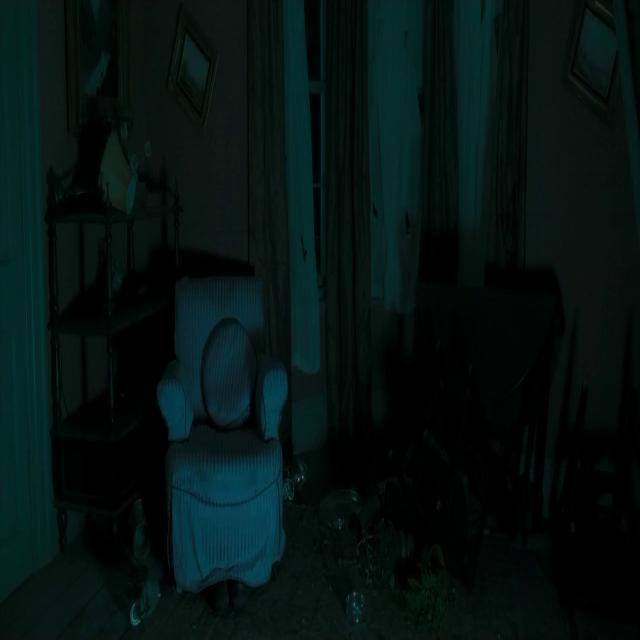Table: (18, 134, 192, 637)
chair: (144, 243, 298, 594), (472, 257, 580, 616)
